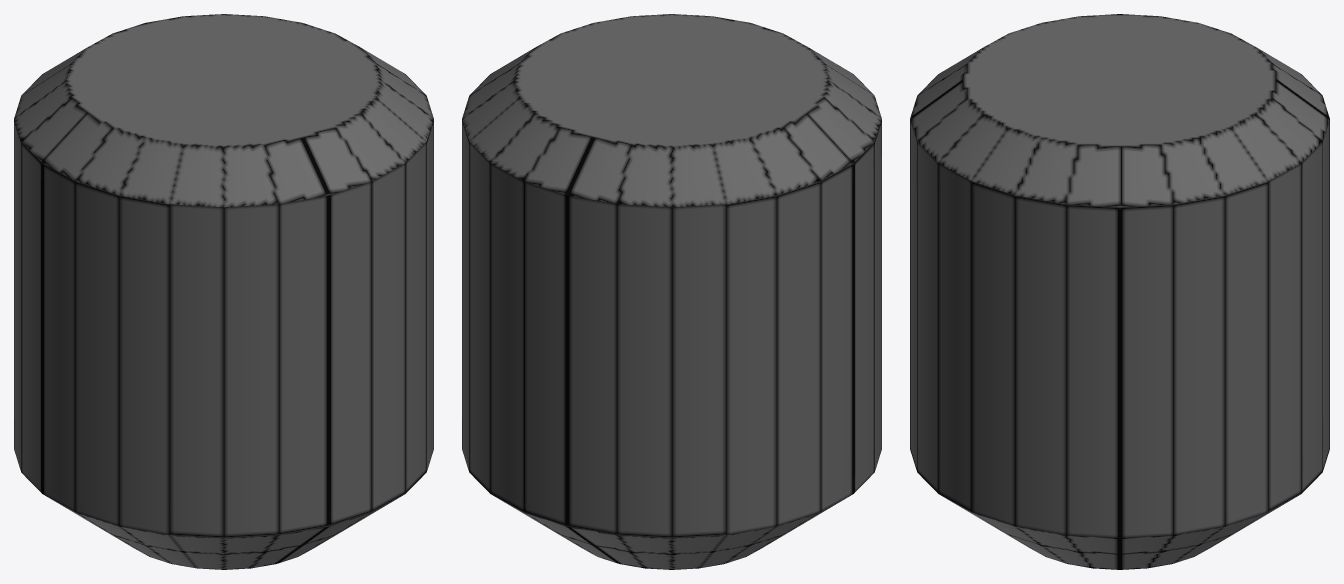
Rendered from Tantares_Habitation_2_Interior.obj.
The picture shows the model from 3 angles, left to right: view 1: azimuth 30°, elevation 25°; view 2: azimuth 150°, elevation 25°; view 3: azimuth 270°, elevation 25°; orthographic projection.
Visible parts, largest first — view 1: Tantares_Habitation_2_Interior; view 2: Tantares_Habitation_2_Interior; view 3: Tantares_Habitation_2_Interior.
Part boxes in pixels (left/top/right/bottom): Tantares_Habitation_2_Interior: left=14, top=14, right=433, bottom=569; Tantares_Habitation_2_Interior: left=462, top=14, right=881, bottom=569; Tantares_Habitation_2_Interior: left=910, top=14, right=1329, bottom=569.
Size of the model in its own units: 1.25 by 1.46 by 1.25.
1 material, 1 textured.
